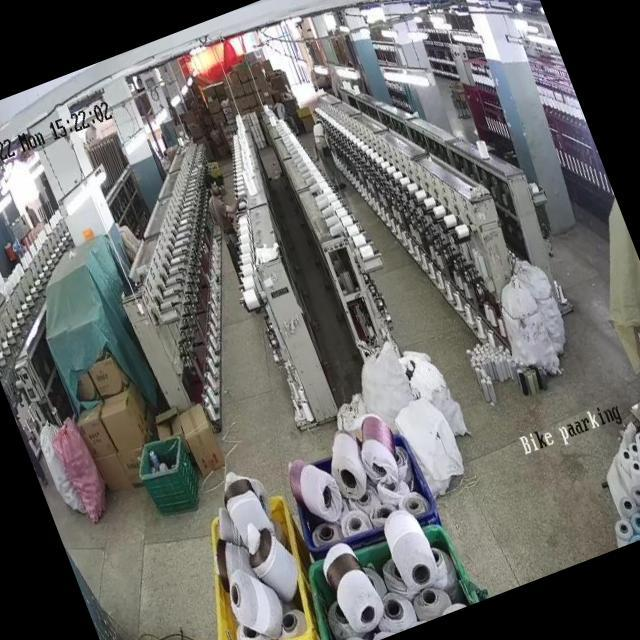person: (198, 168, 252, 270), (310, 118, 348, 189)
